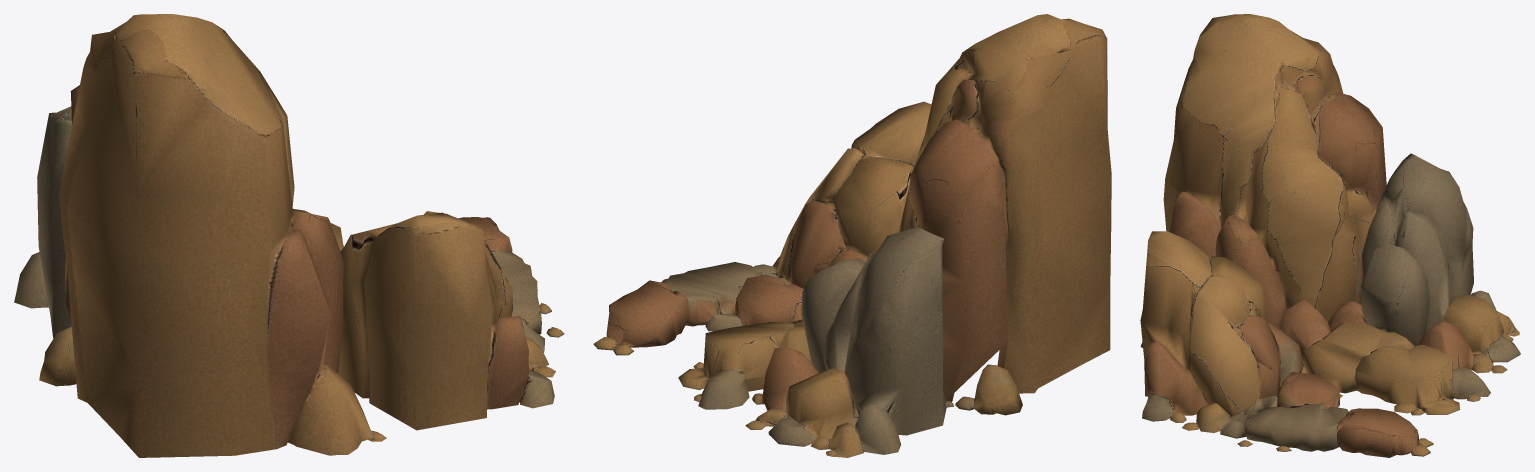
Rendered from Rock01_SongDynasty.glb.
The picture shows the model from 3 angles, left to right: view 1: azimuth 30°, elevation 25°; view 2: azimuth 150°, elevation 25°; view 3: azimuth 270°, elevation 25°; orthographic projection. The views are drawn at different scales.
Visible parts, largest first — view 1: tripo_node_ba2908c0-60eb-417d-b317-29d9230ba4e7; view 2: tripo_node_ba2908c0-60eb-417d-b317-29d9230ba4e7; view 3: tripo_node_ba2908c0-60eb-417d-b317-29d9230ba4e7.
Part boxes in pixels (x1,y1,x2,y2): tripo_node_ba2908c0-60eb-417d-b317-29d9230ba4e7: (14,14,564,457); tripo_node_ba2908c0-60eb-417d-b317-29d9230ba4e7: (593,14,1111,457); tripo_node_ba2908c0-60eb-417d-b317-29d9230ba4e7: (1140,14,1520,457).
Bounding box in the file's own units: 0.998 × 0.8145 × 0.959.
Materials: 1 (1 with a texture image).
